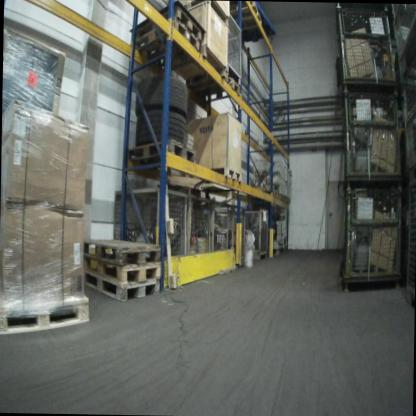pallet: (0, 290, 97, 338), (128, 2, 203, 43), (162, 46, 228, 91), (85, 273, 162, 308), (132, 22, 204, 57), (81, 252, 157, 284), (126, 134, 197, 168), (85, 232, 161, 263), (227, 2, 263, 33), (209, 168, 238, 186), (228, 78, 242, 100), (259, 186, 276, 199), (277, 191, 286, 202), (285, 196, 291, 205)
stillage: (341, 183, 402, 287), (339, 91, 404, 181), (111, 178, 186, 256), (336, 7, 399, 85), (399, 14, 416, 130), (402, 169, 416, 307), (184, 187, 211, 251), (399, 65, 416, 165), (223, 198, 246, 267), (242, 204, 268, 262), (396, 4, 416, 64), (227, 14, 243, 89), (208, 200, 225, 255)
